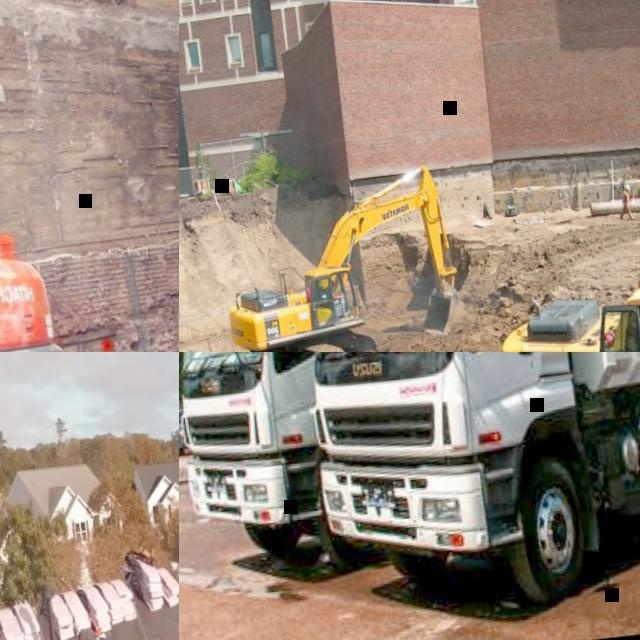Hardhat: (623, 184, 629, 192)
Person: (615, 183, 633, 222), (329, 280, 337, 300)
Safety Vest: (622, 191, 628, 204)
machinery: (285, 352, 640, 631), (465, 10, 640, 352), (211, 159, 466, 352), (179, 352, 358, 580), (0, 41, 71, 352)
